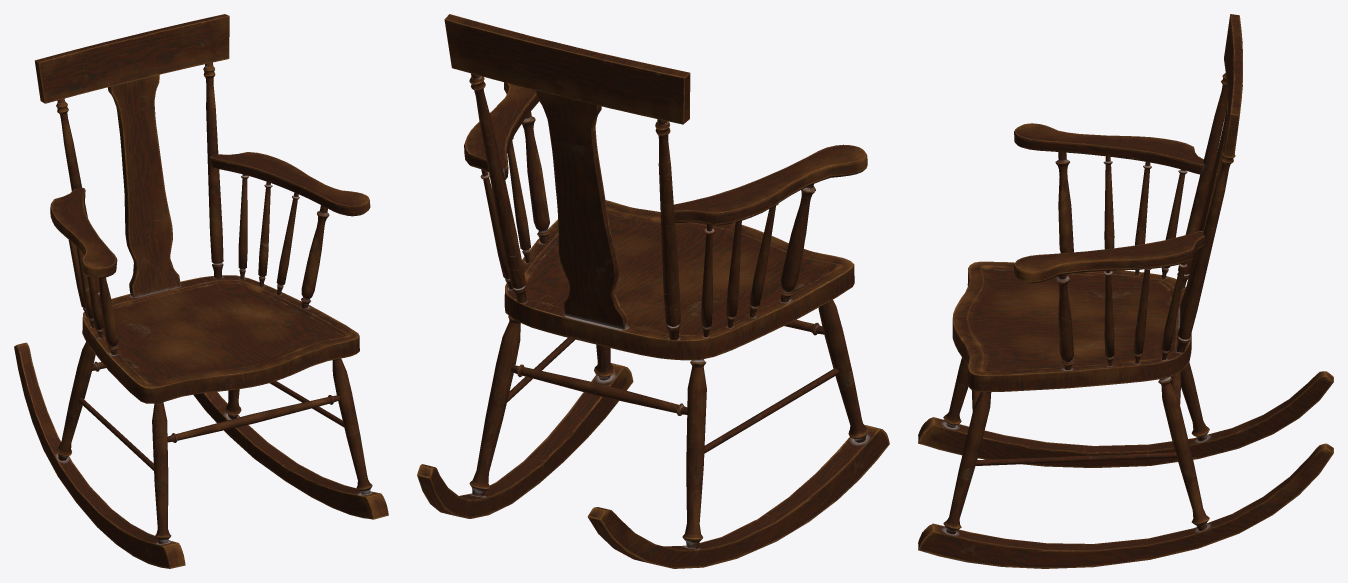
Rendered from rocking_chair.glb.
3 renders of one model, left to right at view 1: azimuth 30°, elevation 25°; view 2: azimuth 150°, elevation 25°; view 3: azimuth 270°, elevation 25°, orthographic. The views are drawn at different scales.
Visible parts, largest first — view 1: Rockingchair_01; view 2: Rockingchair_01; view 3: Rockingchair_01.
Part boxes in pixels (x1,y1,x2,y2): Rockingchair_01: (14,14,388,568); Rockingchair_01: (417,14,889,568); Rockingchair_01: (918,14,1333,568).
Bounding box in the file's own units: 0.7093 × 0.9949 × 0.8337.
Materials: 1 (1 with a texture image).
